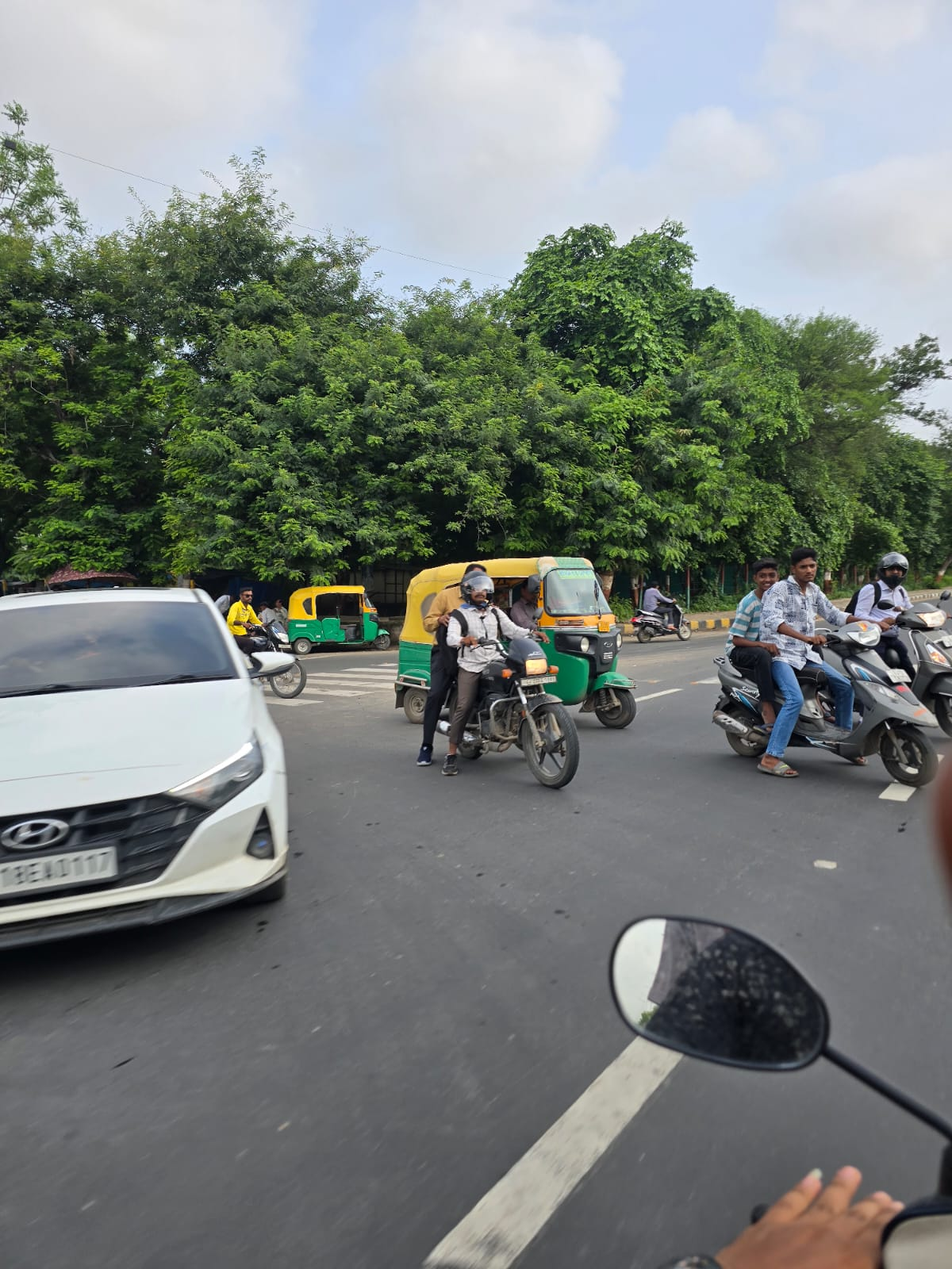BikeWithRider: (701, 541, 943, 797), (406, 552, 589, 796), (847, 544, 952, 743)
Helmet: (456, 570, 496, 608), (873, 552, 912, 588)
NoHelmet: (790, 547, 823, 585), (457, 558, 496, 589), (747, 561, 777, 592)
